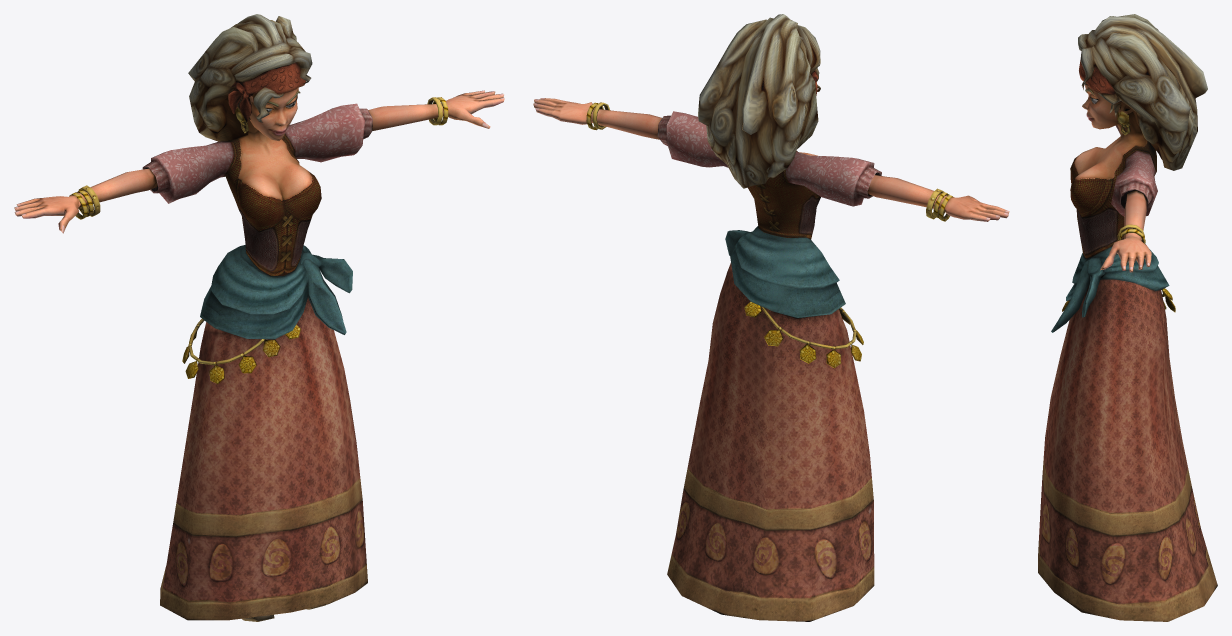
File: Taunt.gltf
3 renders of one model, left to right at view 1: azimuth 30°, elevation 25°; view 2: azimuth 150°, elevation 25°; view 3: azimuth 270°, elevation 25°, orthographic. The views are drawn at different scales.
Visible parts, largest first — view 1: Peasant_girl; view 2: Peasant_girl; view 3: Peasant_girl.
Boxes of the visible parts, x1,y1,x2,y2 form: Peasant_girl: (14,14,504,621); Peasant_girl: (533,14,1009,621); Peasant_girl: (1038,14,1217,621).
Size of the model in its own units: 179 by 203 by 58.62.
1 material, 1 textured.
